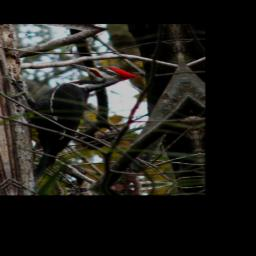Woodpecker: (5, 58, 159, 182)
